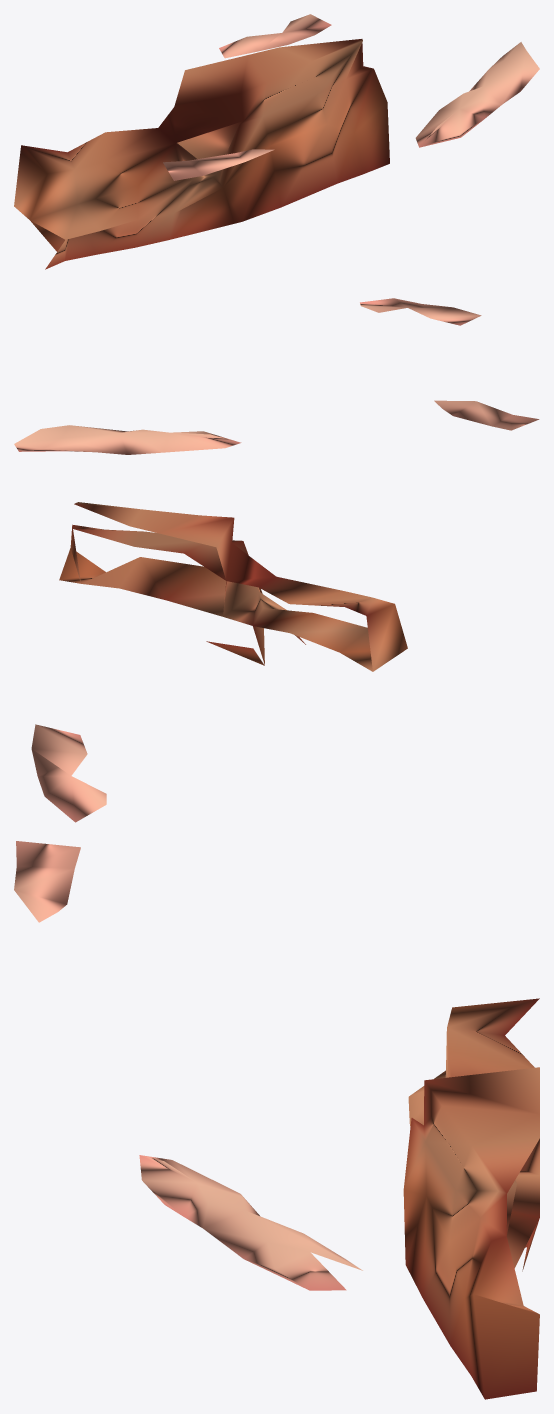
The picture shows the model from 3 angles, top to bottom: view 1: azimuth 30°, elevation 25°; view 2: azimuth 150°, elevation 25°; view 3: azimuth 270°, elevation 25°; orthographic projection. The views are drawn at different scales.
Visible parts, largest first — view 1: scene.l1.2.3 (×2); view 2: scene.l1.2.3 (×2); view 3: scene.l1.2.3 (×2).
Boxes of the visible parts, box(x1,y1,x2,y2) form: scene.l1.2.3 (×2): box(14, 14, 539, 269); scene.l1.2.3 (×2): box(14, 298, 539, 671); scene.l1.2.3 (×2): box(14, 724, 539, 1399).
Bounding box in the file's own units: 125 × 75.08 × 80.75.
